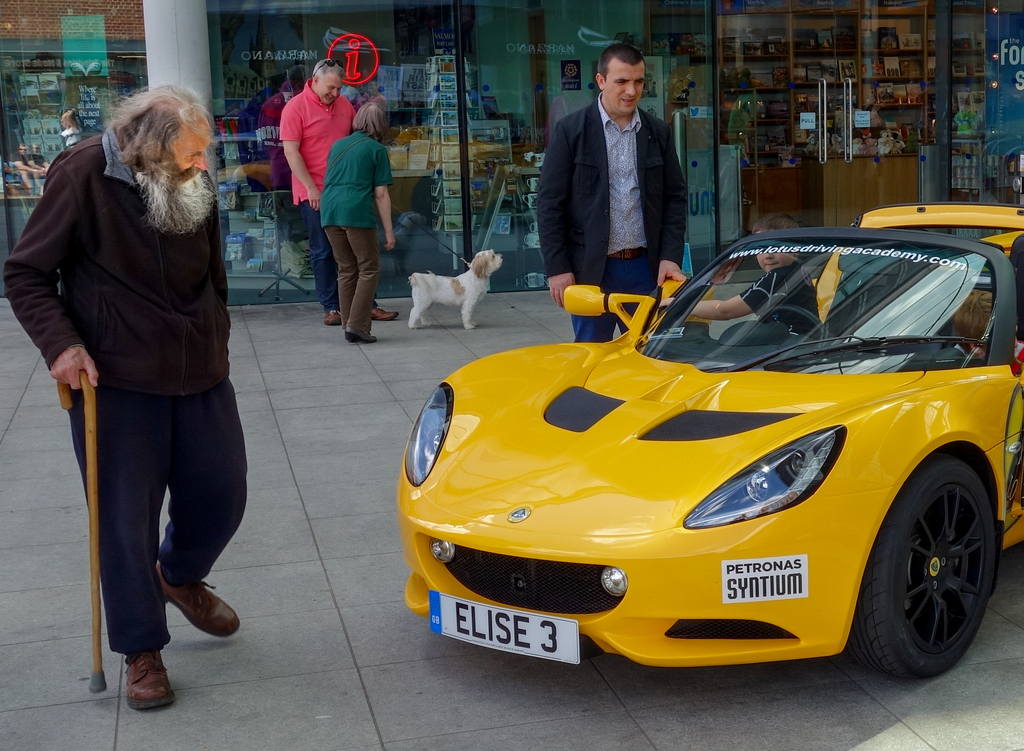Person: (657, 213, 825, 340)
